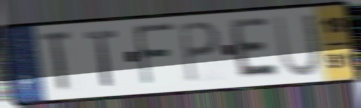E: (229, 16, 283, 80)
F: (132, 22, 177, 89)
P: (177, 20, 223, 86)
T: (40, 28, 74, 95), (83, 28, 120, 89)
U: (272, 11, 323, 79)
